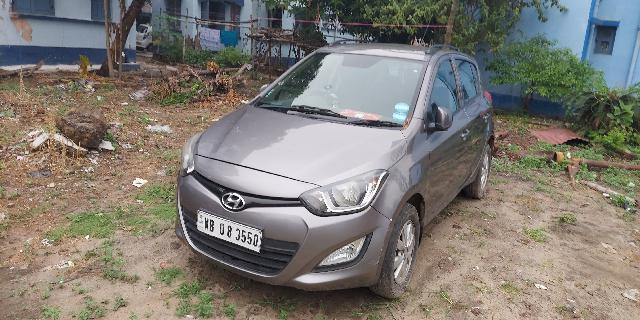Car: (176, 43, 507, 298)
